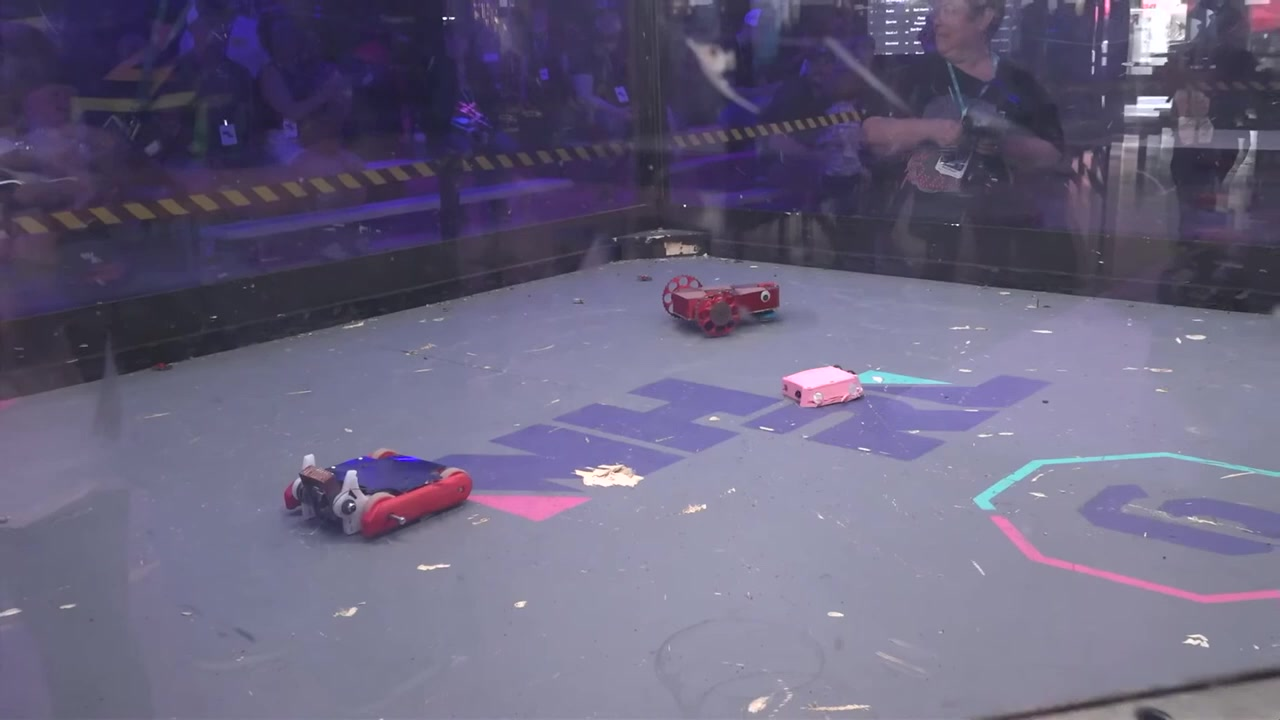combatbot: (287, 449, 478, 542), (660, 277, 782, 337)
housebot: (981, 665, 1280, 720)
minibot: (779, 366, 866, 407)
